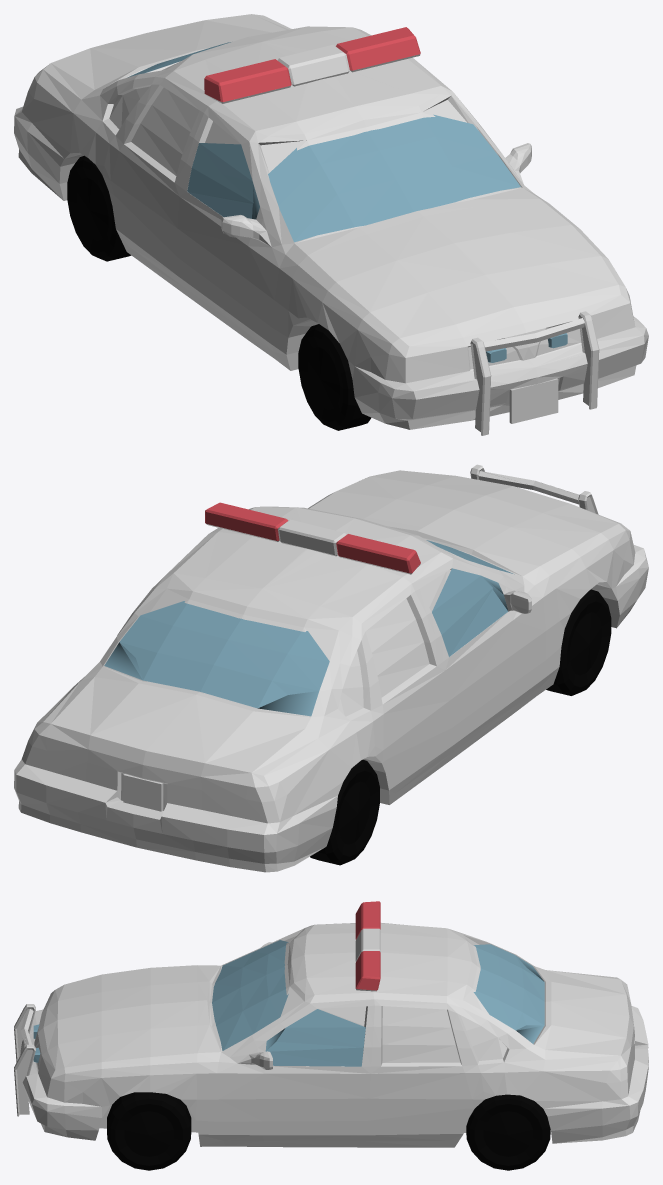
Rendered from car2.gltf.
3 views of the same model, one above another, from view 1: azimuth 30°, elevation 25°; view 2: azimuth 150°, elevation 25°; view 3: azimuth 270°, elevation 25° (orthographic). The views are drawn at different scales.
Bounding box in the file's own units: 4.44 × 3.24 × 10.15.
